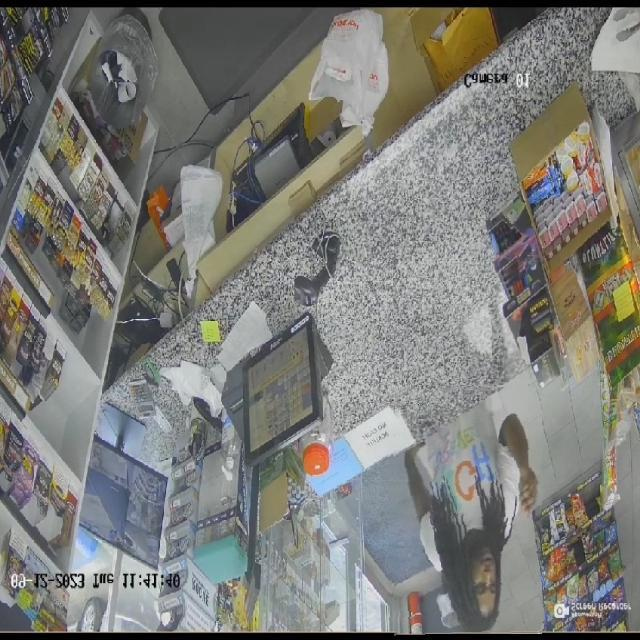normal: (388, 385, 542, 634)
